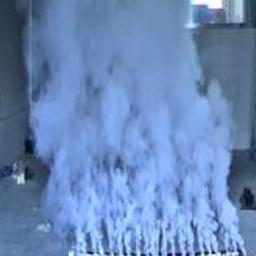smoke: (29, 0, 245, 255)
